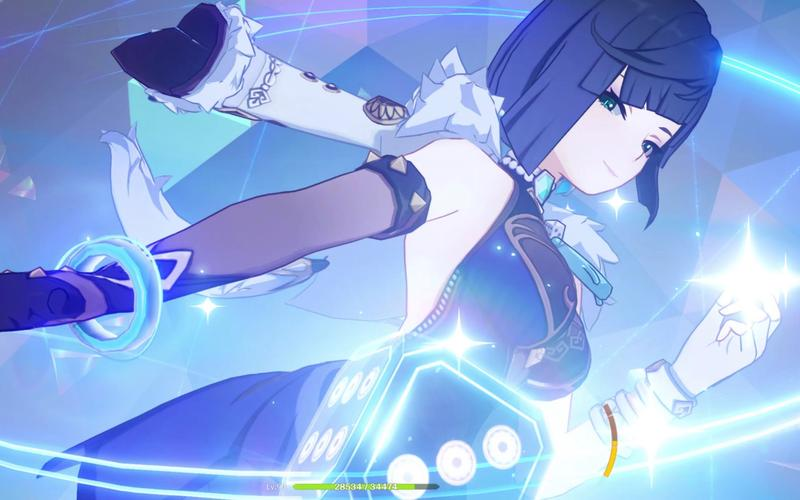夜兰: (1, 2, 787, 499)
